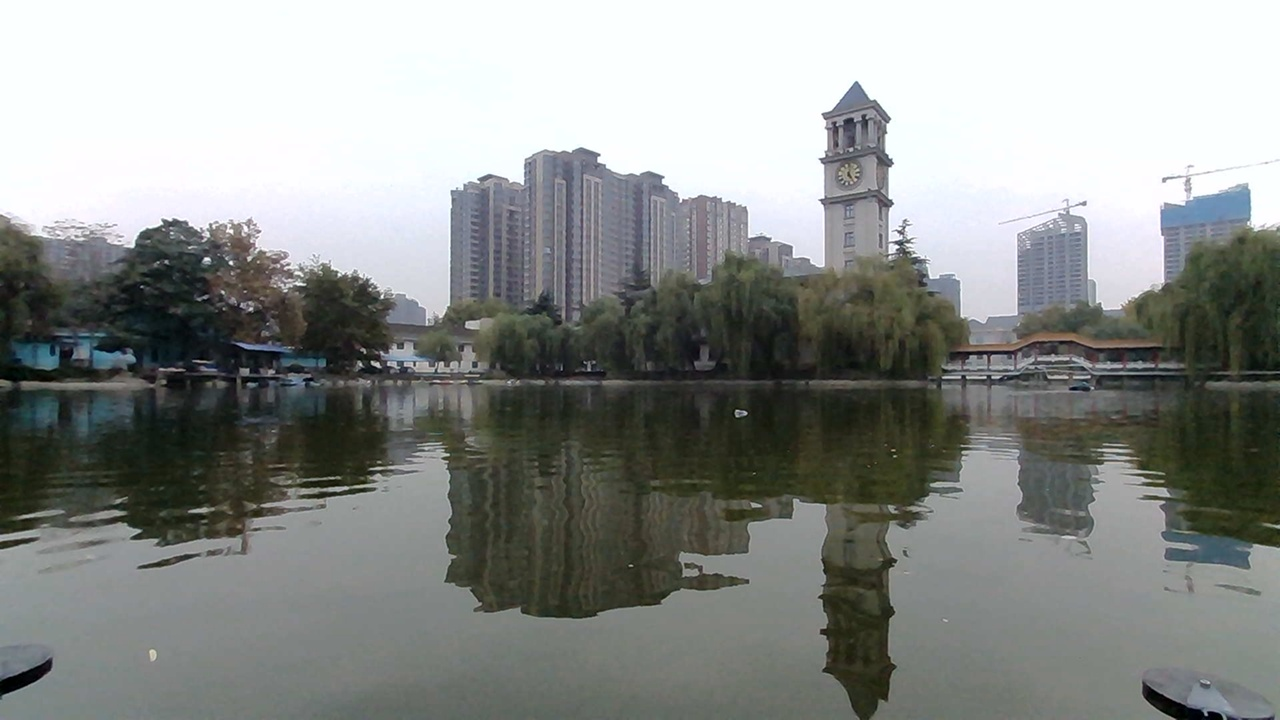bottle: (720, 393, 759, 423)
